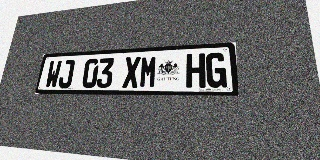0: (81, 58, 100, 88)
3: (96, 58, 114, 88)
G: (206, 52, 227, 88)
H: (186, 53, 206, 88)
J: (57, 60, 75, 88)
M: (139, 56, 158, 88)
W: (44, 60, 62, 88)
X: (122, 56, 141, 88)
